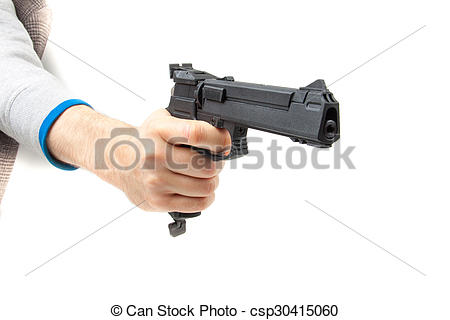pistol: (143, 50, 389, 256)
